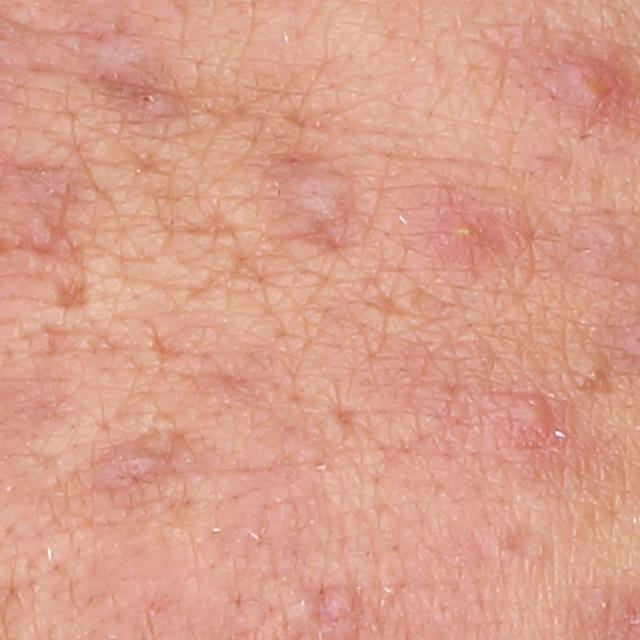atrophic_scar: (53, 273, 91, 310), (331, 401, 359, 427)
comedo: (569, 355, 612, 392)
papule: (491, 390, 566, 476), (433, 206, 500, 272), (321, 582, 361, 624)
